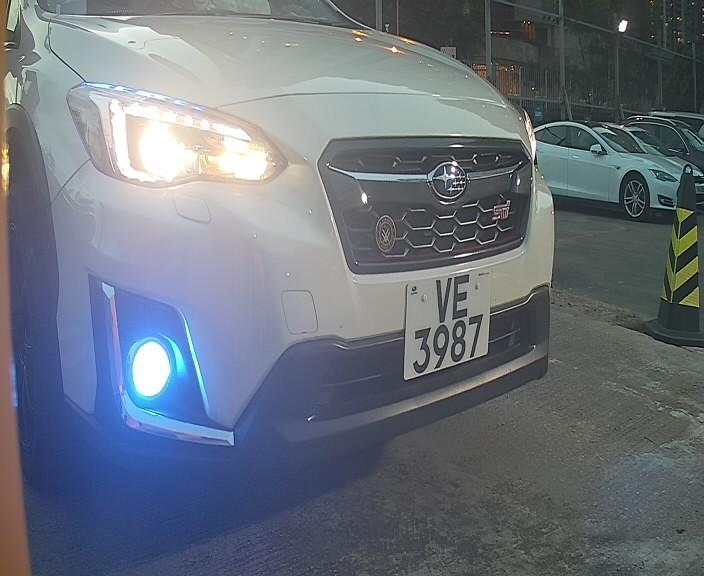Car: (38, 8, 604, 517)
License Plate: (393, 255, 497, 386)
